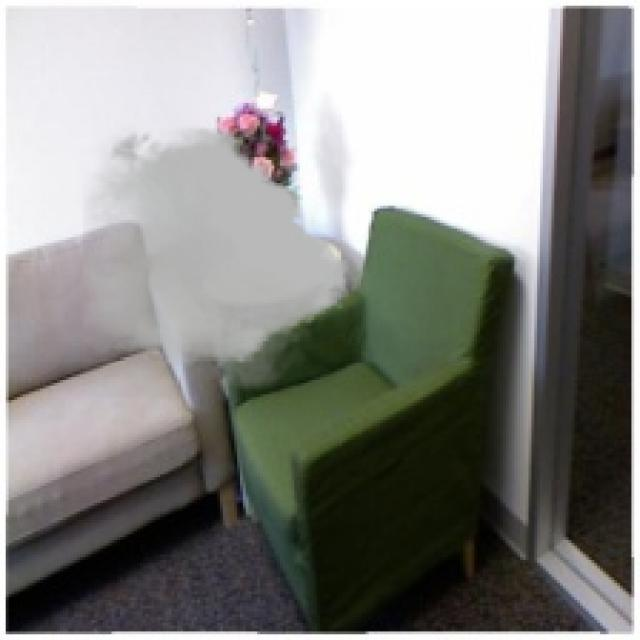Smoke: (82, 122, 348, 398)
